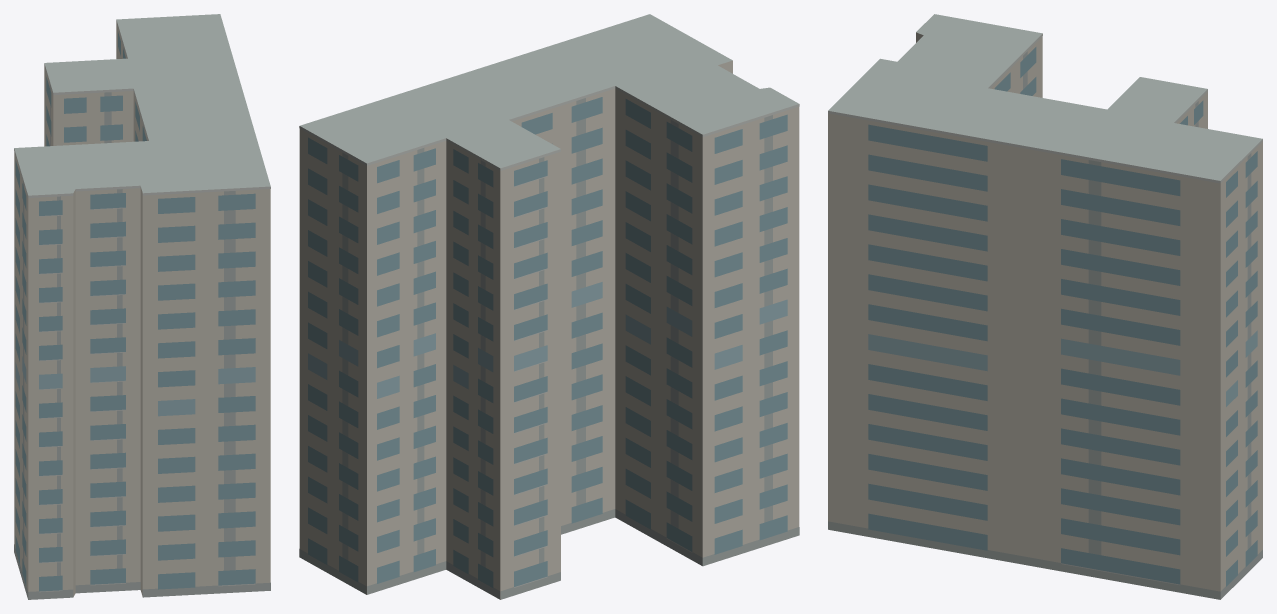
The model's file is residential-a9e05b27-c3d1-41fb-b2b8-c617af98d63d.glb.
The picture shows the model from 3 angles, left to right: view 1: azimuth 30°, elevation 25°; view 2: azimuth 150°, elevation 25°; view 3: azimuth 270°, elevation 25°; orthographic projection. The views are drawn at different scales.
Visible parts, largest first — view 1: residential-a9e05b27-c3d1-41fb-b2b8-c617af98d63d.tmp; view 2: residential-a9e05b27-c3d1-41fb-b2b8-c617af98d63d.tmp; view 3: residential-a9e05b27-c3d1-41fb-b2b8-c617af98d63d.tmp.
Boxes of the visible parts, left/top/right/bottom form: residential-a9e05b27-c3d1-41fb-b2b8-c617af98d63d.tmp: left=14, top=14, right=270, bottom=599; residential-a9e05b27-c3d1-41fb-b2b8-c617af98d63d.tmp: left=299, top=14, right=799, bottom=599; residential-a9e05b27-c3d1-41fb-b2b8-c617af98d63d.tmp: left=828, top=14, right=1262, bottom=599.
Size of the model in its own units: 34.2 by 40 by 37.64.
